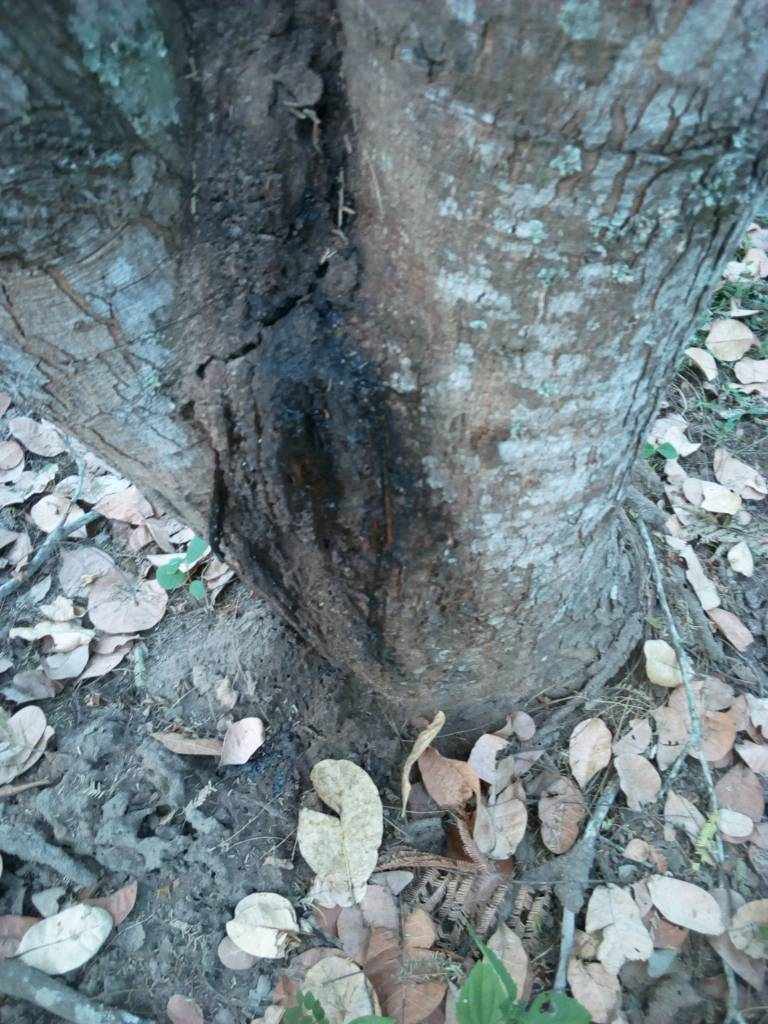Gommose: (200, 339, 427, 627)
